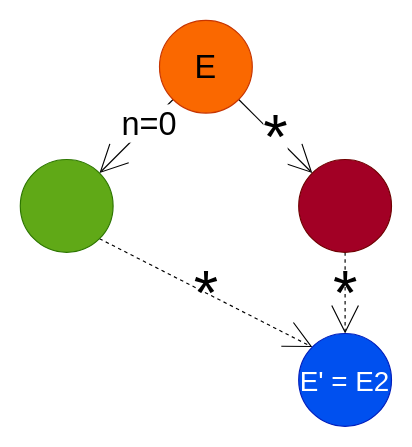
The diagram is 412 pixels wide and 447 high, and some of its shapes have lost their labels. The centre of each missing label's shape, as x and y in pixels:
E1 = E: (66,205)
E2: (345,205)
